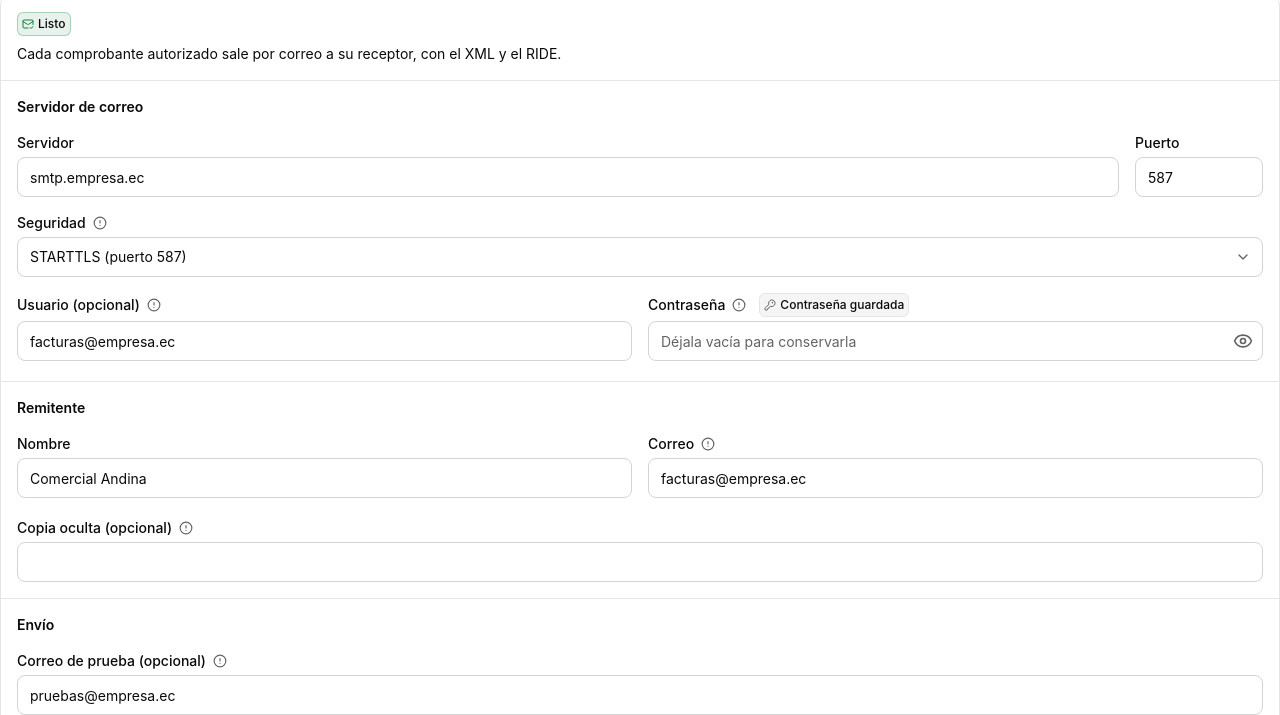
Scenario: Correos (design D14) › guarda sin repetir la contraseña guardada, con los opcionales vacíos y la versión de partida
Expected: the text "Contraseña guardada" is shown, [780, 297, 904, 313]
Replace the text in the field labelled "Nombre" with "Andina" at coordinates (324, 478), box [17, 458, 632, 498]
(page scrolled)
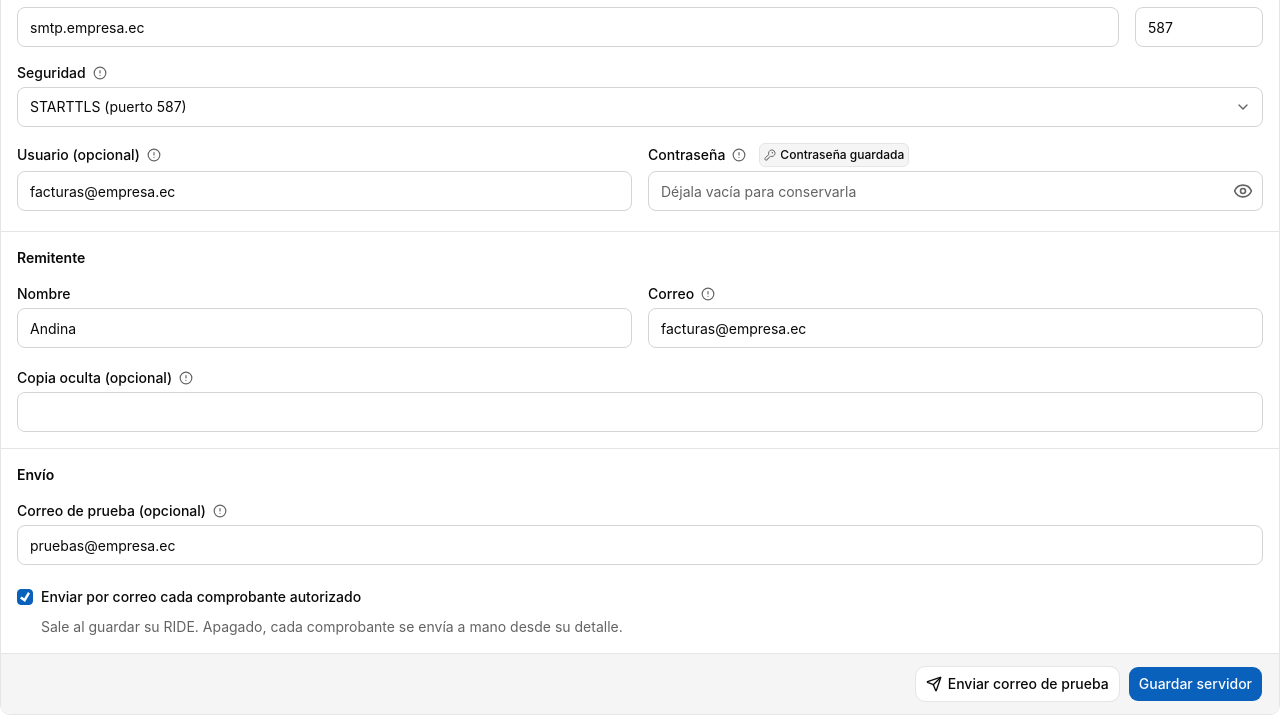
Click the button "Guardar servidor" at coordinates (1195, 684), box [1128, 666, 1263, 702]
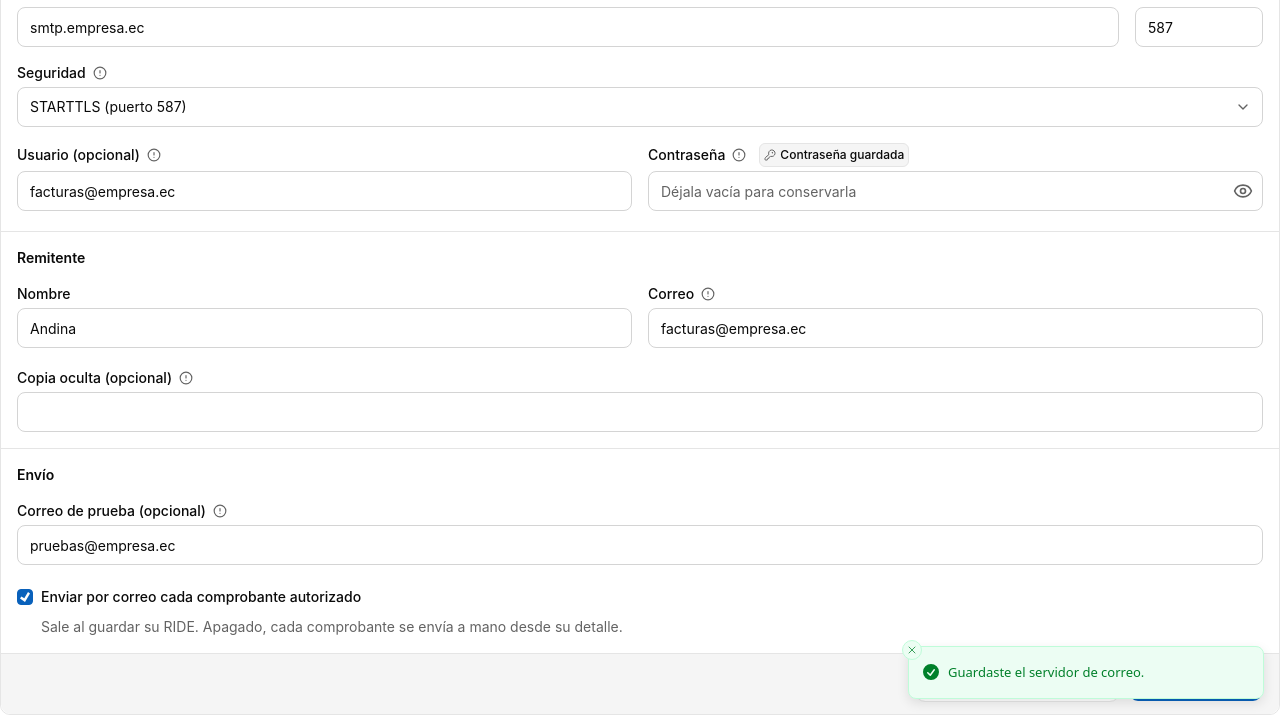
Now the text "Guardaste el servidor de correo." is shown, box [948, 662, 1144, 682]
